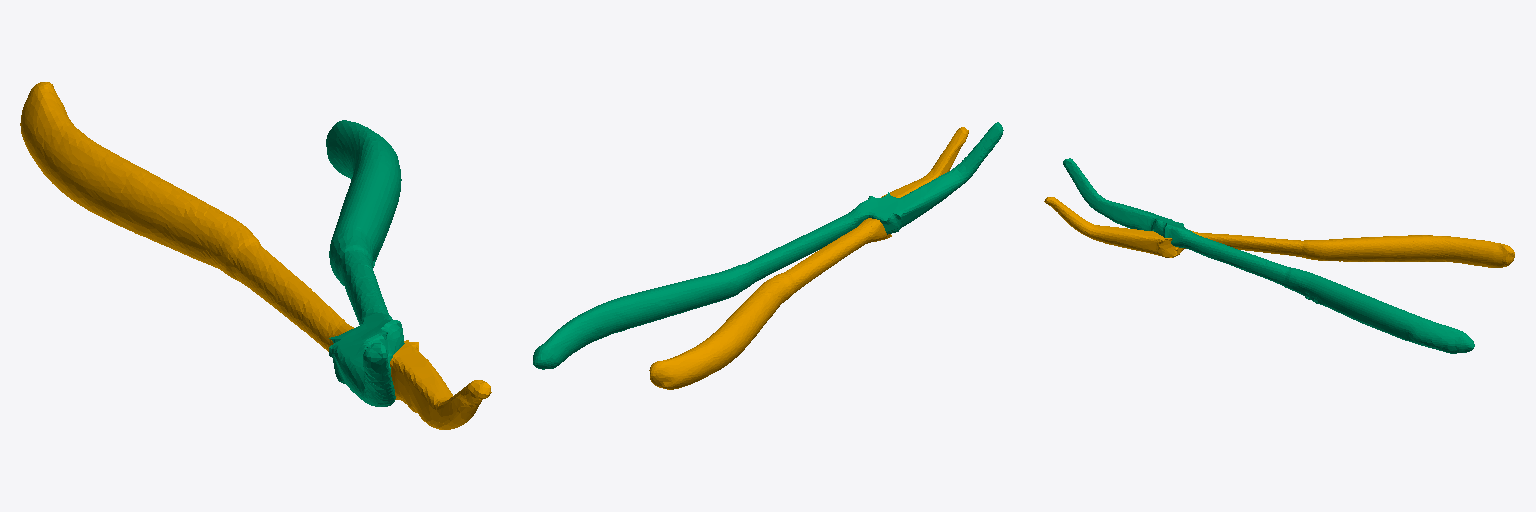
robot.urdf — pliers:
<?xml version="1.0"?>
<robot name="pliers">
  <link name ="rb0">
    <visual>
      <origin xyz='0.113459 0.022103 -0.004631' rpy='0.081767 0.166139 -1.655230'/>
      <geometry>
        <mesh filename="package://articulated_objects_db/data/objects/pliers/meshes/plier_right.obj"  scale="1 1 1" />
      </geometry>
    </visual>
  </link>
  <joint name="j_0_1" type="revolute">
    <parent link="rb0"/>
    <child link="rb1"/>
    <origin xyz="0.0176585590851 -0.0299033479141 -0.00889654501518" rpy="0 0 0 "/>
    <axis xyz="-0.0655486046566 -0.0794859462496 0.994678523331"/>
    <limit effort="30" velocity="1.0" lower="-3.1416" upper="3.1416"/>
  </joint>
  <joint name="j_0_fixed" type="fixed">
    <parent link="rb1"/>
    <child link="rb1_marker"/>
      <origin xyz="0.0750577405031 0.089193543935 0.0117309346362" rpy="-3.10683130842 -0.0526488123909 2.66201741394"/>
    <limit effort="30" velocity="1.0" lower="-3.1416" upper="3.1416"/>
  </joint>
  <link name ="rb1">
  </link>
  <link name ="rb1_marker">
    <visual>
      <origin xyz='-0.072164 -0.043532 -0.077714' rpy='-2.355783 -0.190300 -1.876381'/>
      <geometry>
        <mesh filename="package://articulated_objects_db/data/objects/pliers/meshes/plier_left.obj"  scale="1 1 1" />
      </geometry>
    </visual>
  </link>
</robot>

--- Render facts (derived) ---
The picture shows the robot from 3 angles, left to right: view 1: azimuth 30°, elevation 25°; view 2: azimuth 150°, elevation 25°; view 3: azimuth 270°, elevation 25°; orthographic projection.
Robot: pliers — 3 links, 2 joints (1 revolute, 1 fixed); root link rb0; default pose: every joint at zero.
Links seen in each view (by area): view 1: rb0, rb1_marker; view 2: rb1_marker, rb0; view 3: rb1_marker, rb0.
Boxes of the visible links, <box> form: rb0: <box>20,82,491,429</box>; rb1_marker: <box>326,120,404,406</box>; rb1_marker: <box>533,122,1003,369</box>; rb0: <box>649,127,968,389</box>; rb1_marker: <box>1063,158,1474,353</box>; rb0: <box>1044,197,1514,267</box>.
Bounding box of the posed robot: 0.1422 × 0.2969 × 0.0741 m (x, y, z).
Meshes: 2 distinct files referenced, 2 mesh visuals loaded (2 OBJ).